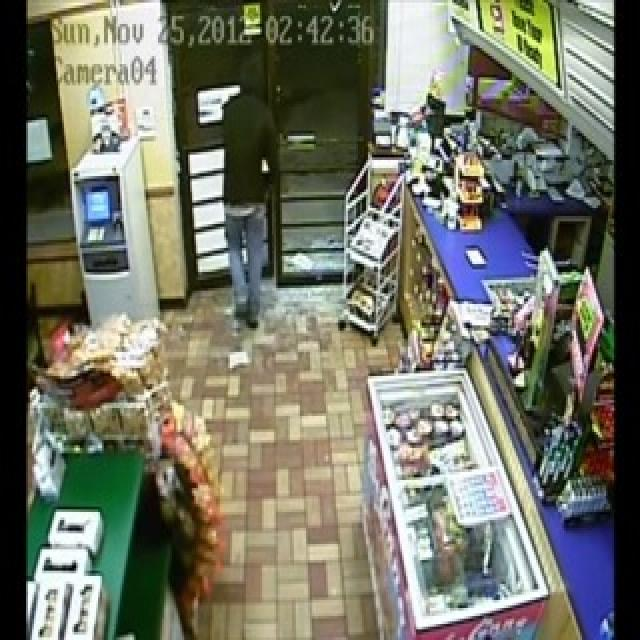thief: (222, 72, 297, 330)
